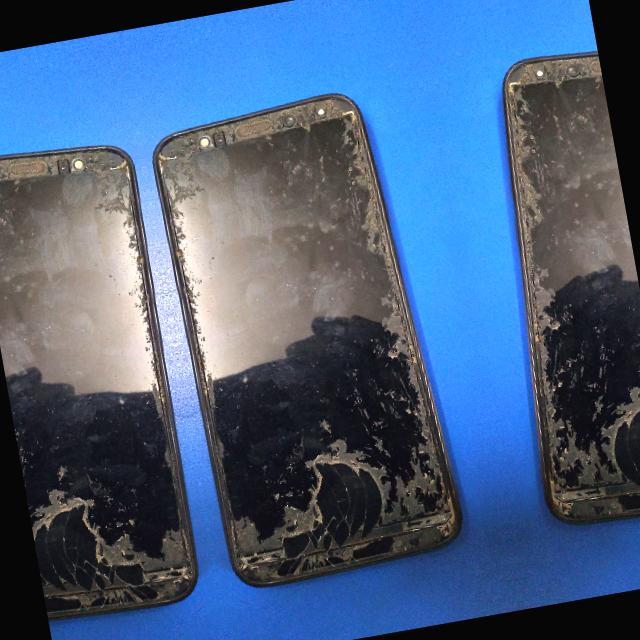phone_screen: (157, 97, 459, 584), (0, 149, 195, 618), (505, 56, 639, 521)
